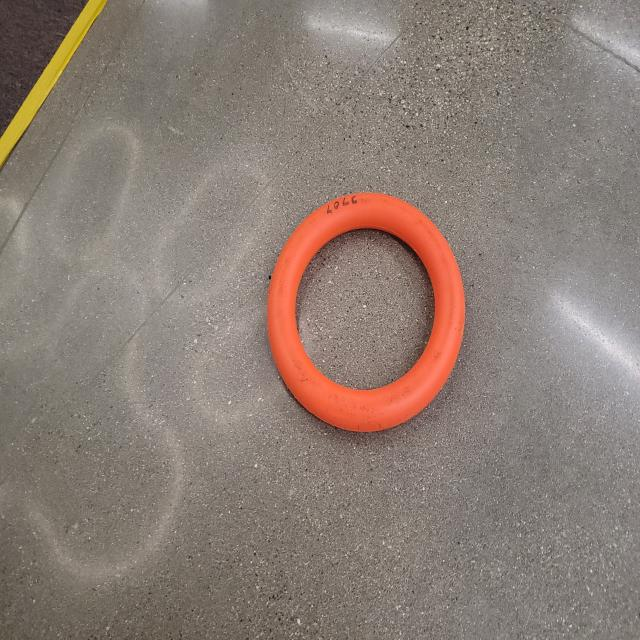note: (260, 180, 489, 457)
